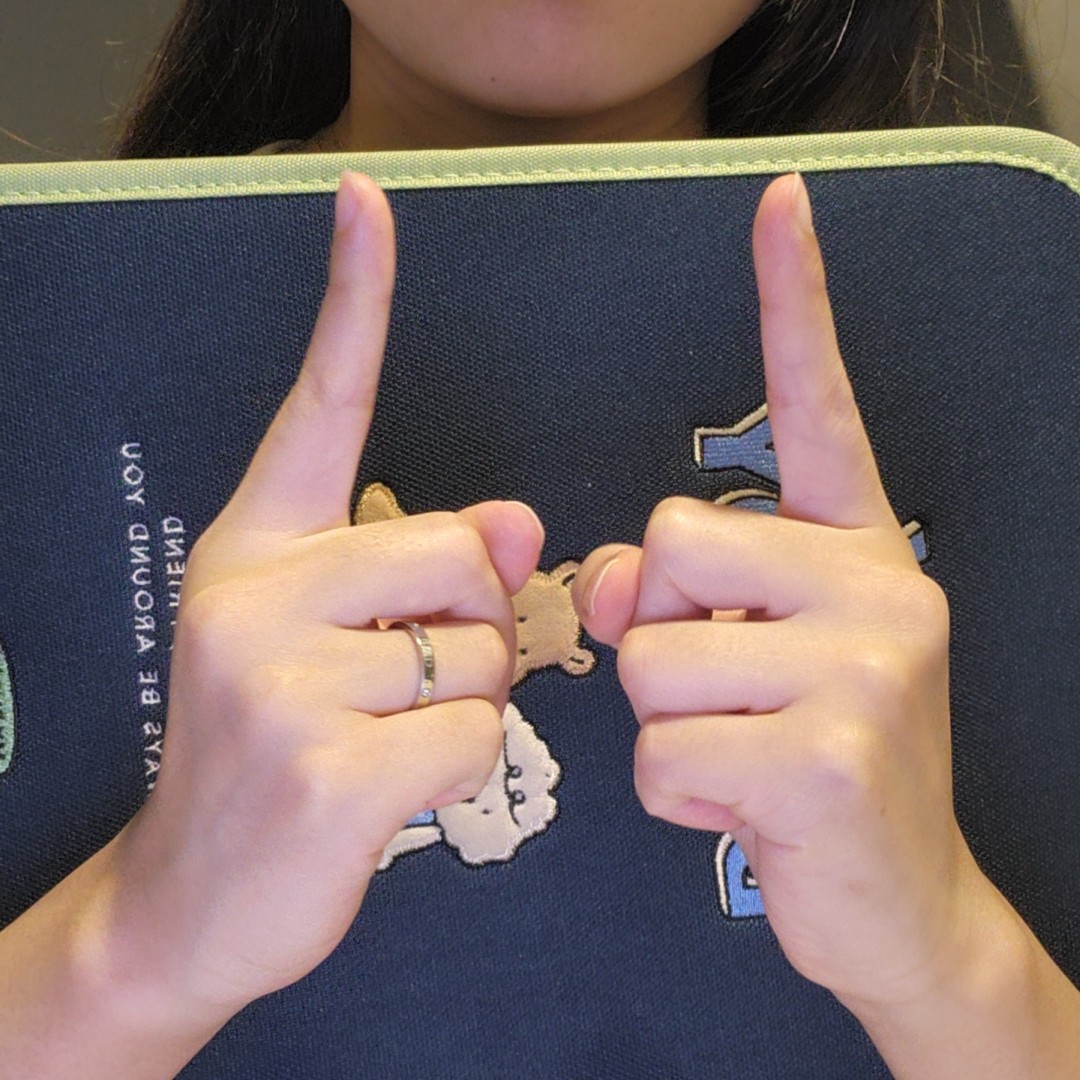meet: (160, 170, 967, 1006)
